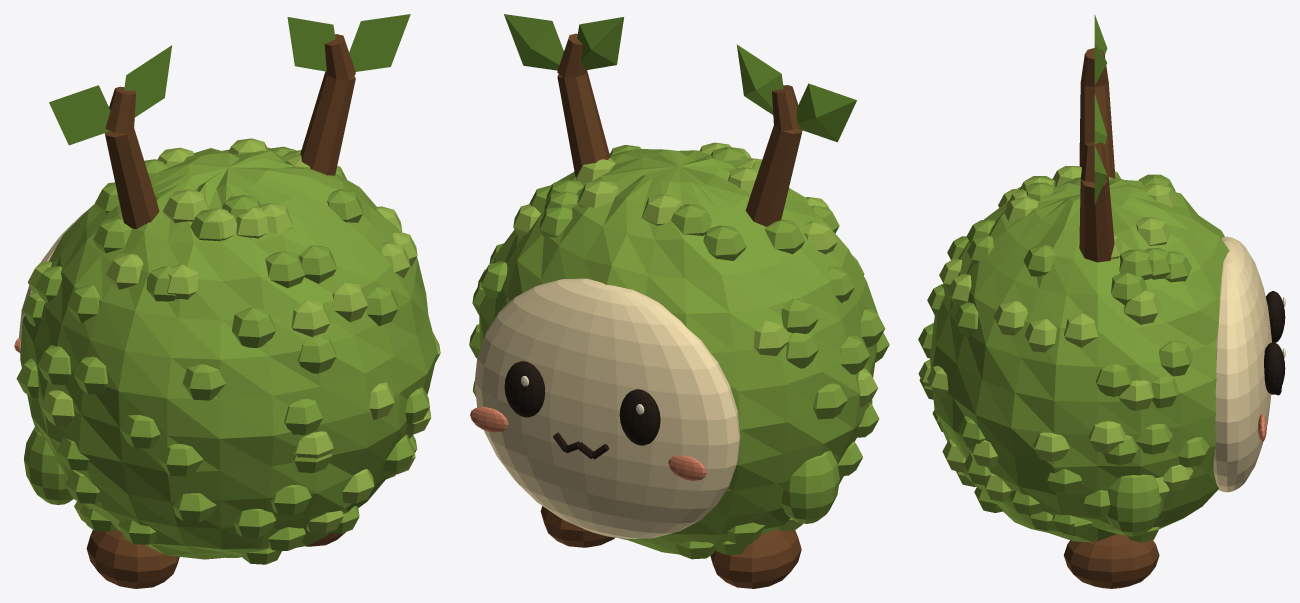
File: MossCompanion.obj
3 renders of one model, left to right at view 1: azimuth 30°, elevation 25°; view 2: azimuth 150°, elevation 25°; view 3: azimuth 270°, elevation 25°, orthographic. The views are drawn at different scales.
Parts seen in each view (by area): view 1: body, moss_clumps, antler, antler_leaf, feet, paw_left; view 2: body, cream_face, moss_clumps, antler_leaf, antler, feet, eyes, paw_left, blush; view 3: body, moss_clumps, cream_face, antler, feet, paw_right, eyes, antler_leaf.
Boxes of the visible parts, box(x1,y1,x2,y2) form: body: box(20, 148, 437, 559); moss_clumps: box(16, 138, 440, 564); antler: box(104, 34, 355, 228); antler_leaf: box(49, 14, 410, 145); feet: box(86, 529, 345, 588); paw_left: box(24, 427, 73, 504); body: box(479, 149, 878, 554); cream_face: box(474, 278, 740, 538); moss_clumps: box(469, 142, 889, 559); antler_leaf: box(504, 14, 856, 142); antler: box(557, 33, 802, 226); feet: box(540, 506, 801, 588); eyes: box(504, 361, 660, 445); paw_left: box(781, 451, 839, 523); blush: box(470, 407, 706, 480); body: box(930, 177, 1229, 542); moss_clumps: box(918, 166, 1209, 542); cream_face: box(1213, 236, 1271, 492); antler: box(1079, 48, 1115, 262); feet: box(1063, 534, 1159, 588); paw_right: box(1106, 474, 1163, 536); eyes: box(1264, 291, 1285, 394); antler_leaf: box(1094, 14, 1107, 204).
Bounding box in the file's own units: 2.8 × 3.75 × 2.61.
